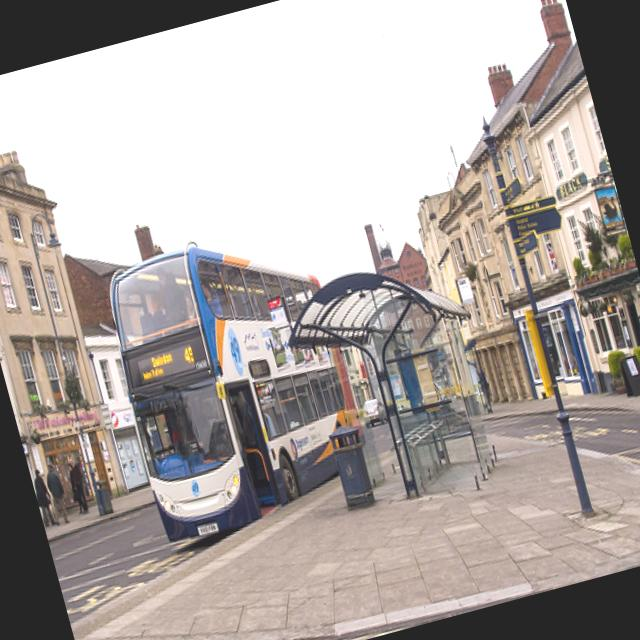Vehicle: (90, 211, 380, 546), (361, 397, 388, 425)
